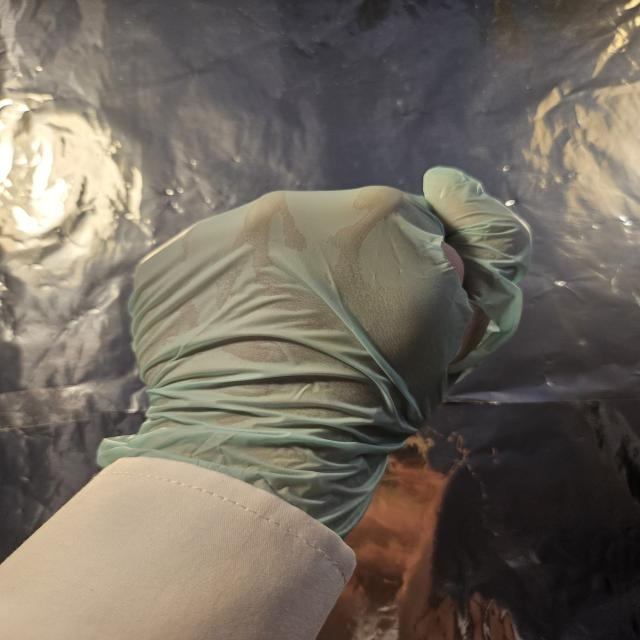gloves_damaged: (101, 160, 548, 538)
